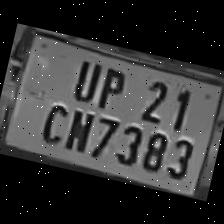1: (164, 80, 197, 130)
2: (134, 73, 172, 123)
3: (110, 116, 146, 168), (161, 130, 197, 182)
7: (84, 109, 120, 162)
8: (136, 125, 171, 174)
C: (35, 96, 72, 146)
N: (61, 101, 97, 153)
P: (90, 58, 132, 111)
U: (66, 51, 104, 103)
